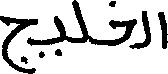X: (0, 11, 36, 73), (108, 0, 136, 53), (73, 0, 87, 47), (55, 11, 65, 60), (158, 7, 167, 53), (142, 6, 149, 52)
